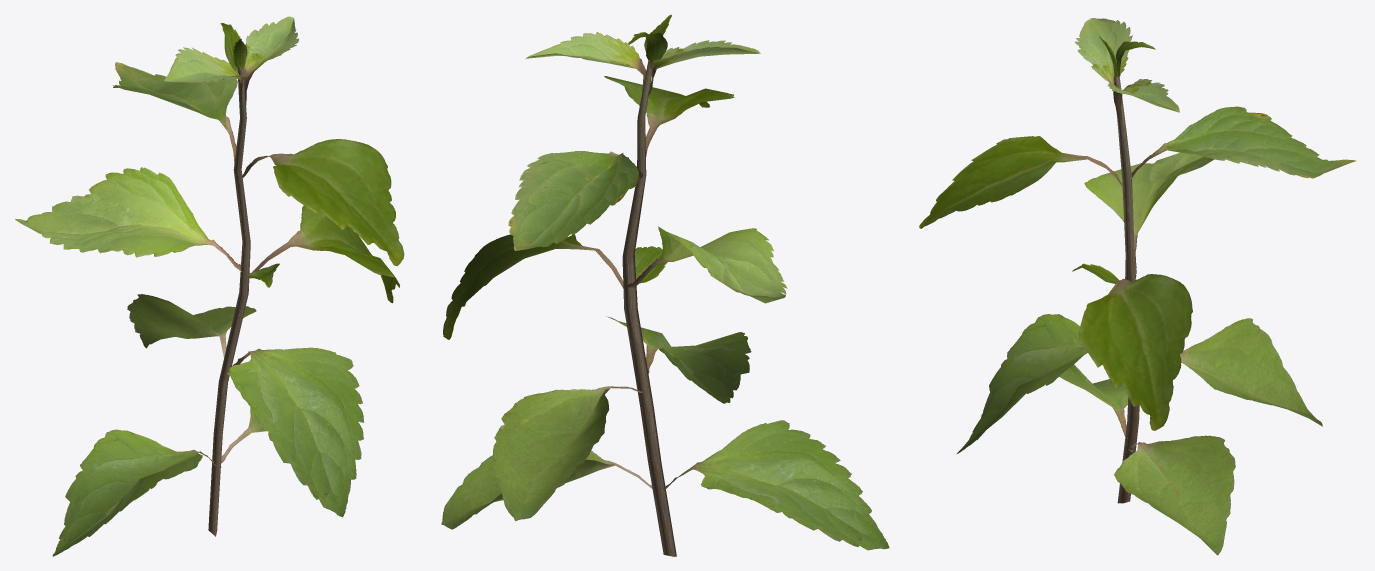
The model's file is shrub_01_f_LOD1.glb.
The picture shows the model from 3 angles, left to right: view 1: azimuth 30°, elevation 25°; view 2: azimuth 150°, elevation 25°; view 3: azimuth 270°, elevation 25°; orthographic projection. The views are drawn at different scales.
Visible parts, largest first — view 1: shrub_01_f_LOD1__lod0; view 2: shrub_01_f_LOD1__lod0; view 3: shrub_01_f_LOD1__lod0.
Boxes of the visible parts, x1=… form: shrub_01_f_LOD1__lod0: x1=15, y1=16, x2=404, y2=556; shrub_01_f_LOD1__lod0: x1=441, y1=14, x2=889, y2=556; shrub_01_f_LOD1__lod0: x1=919, y1=18, x2=1355, y2=555.
Size of what is drawn, in the model's own units: 0.0918 by 0.1155 by 0.0976.
1 material, 1 textured.
